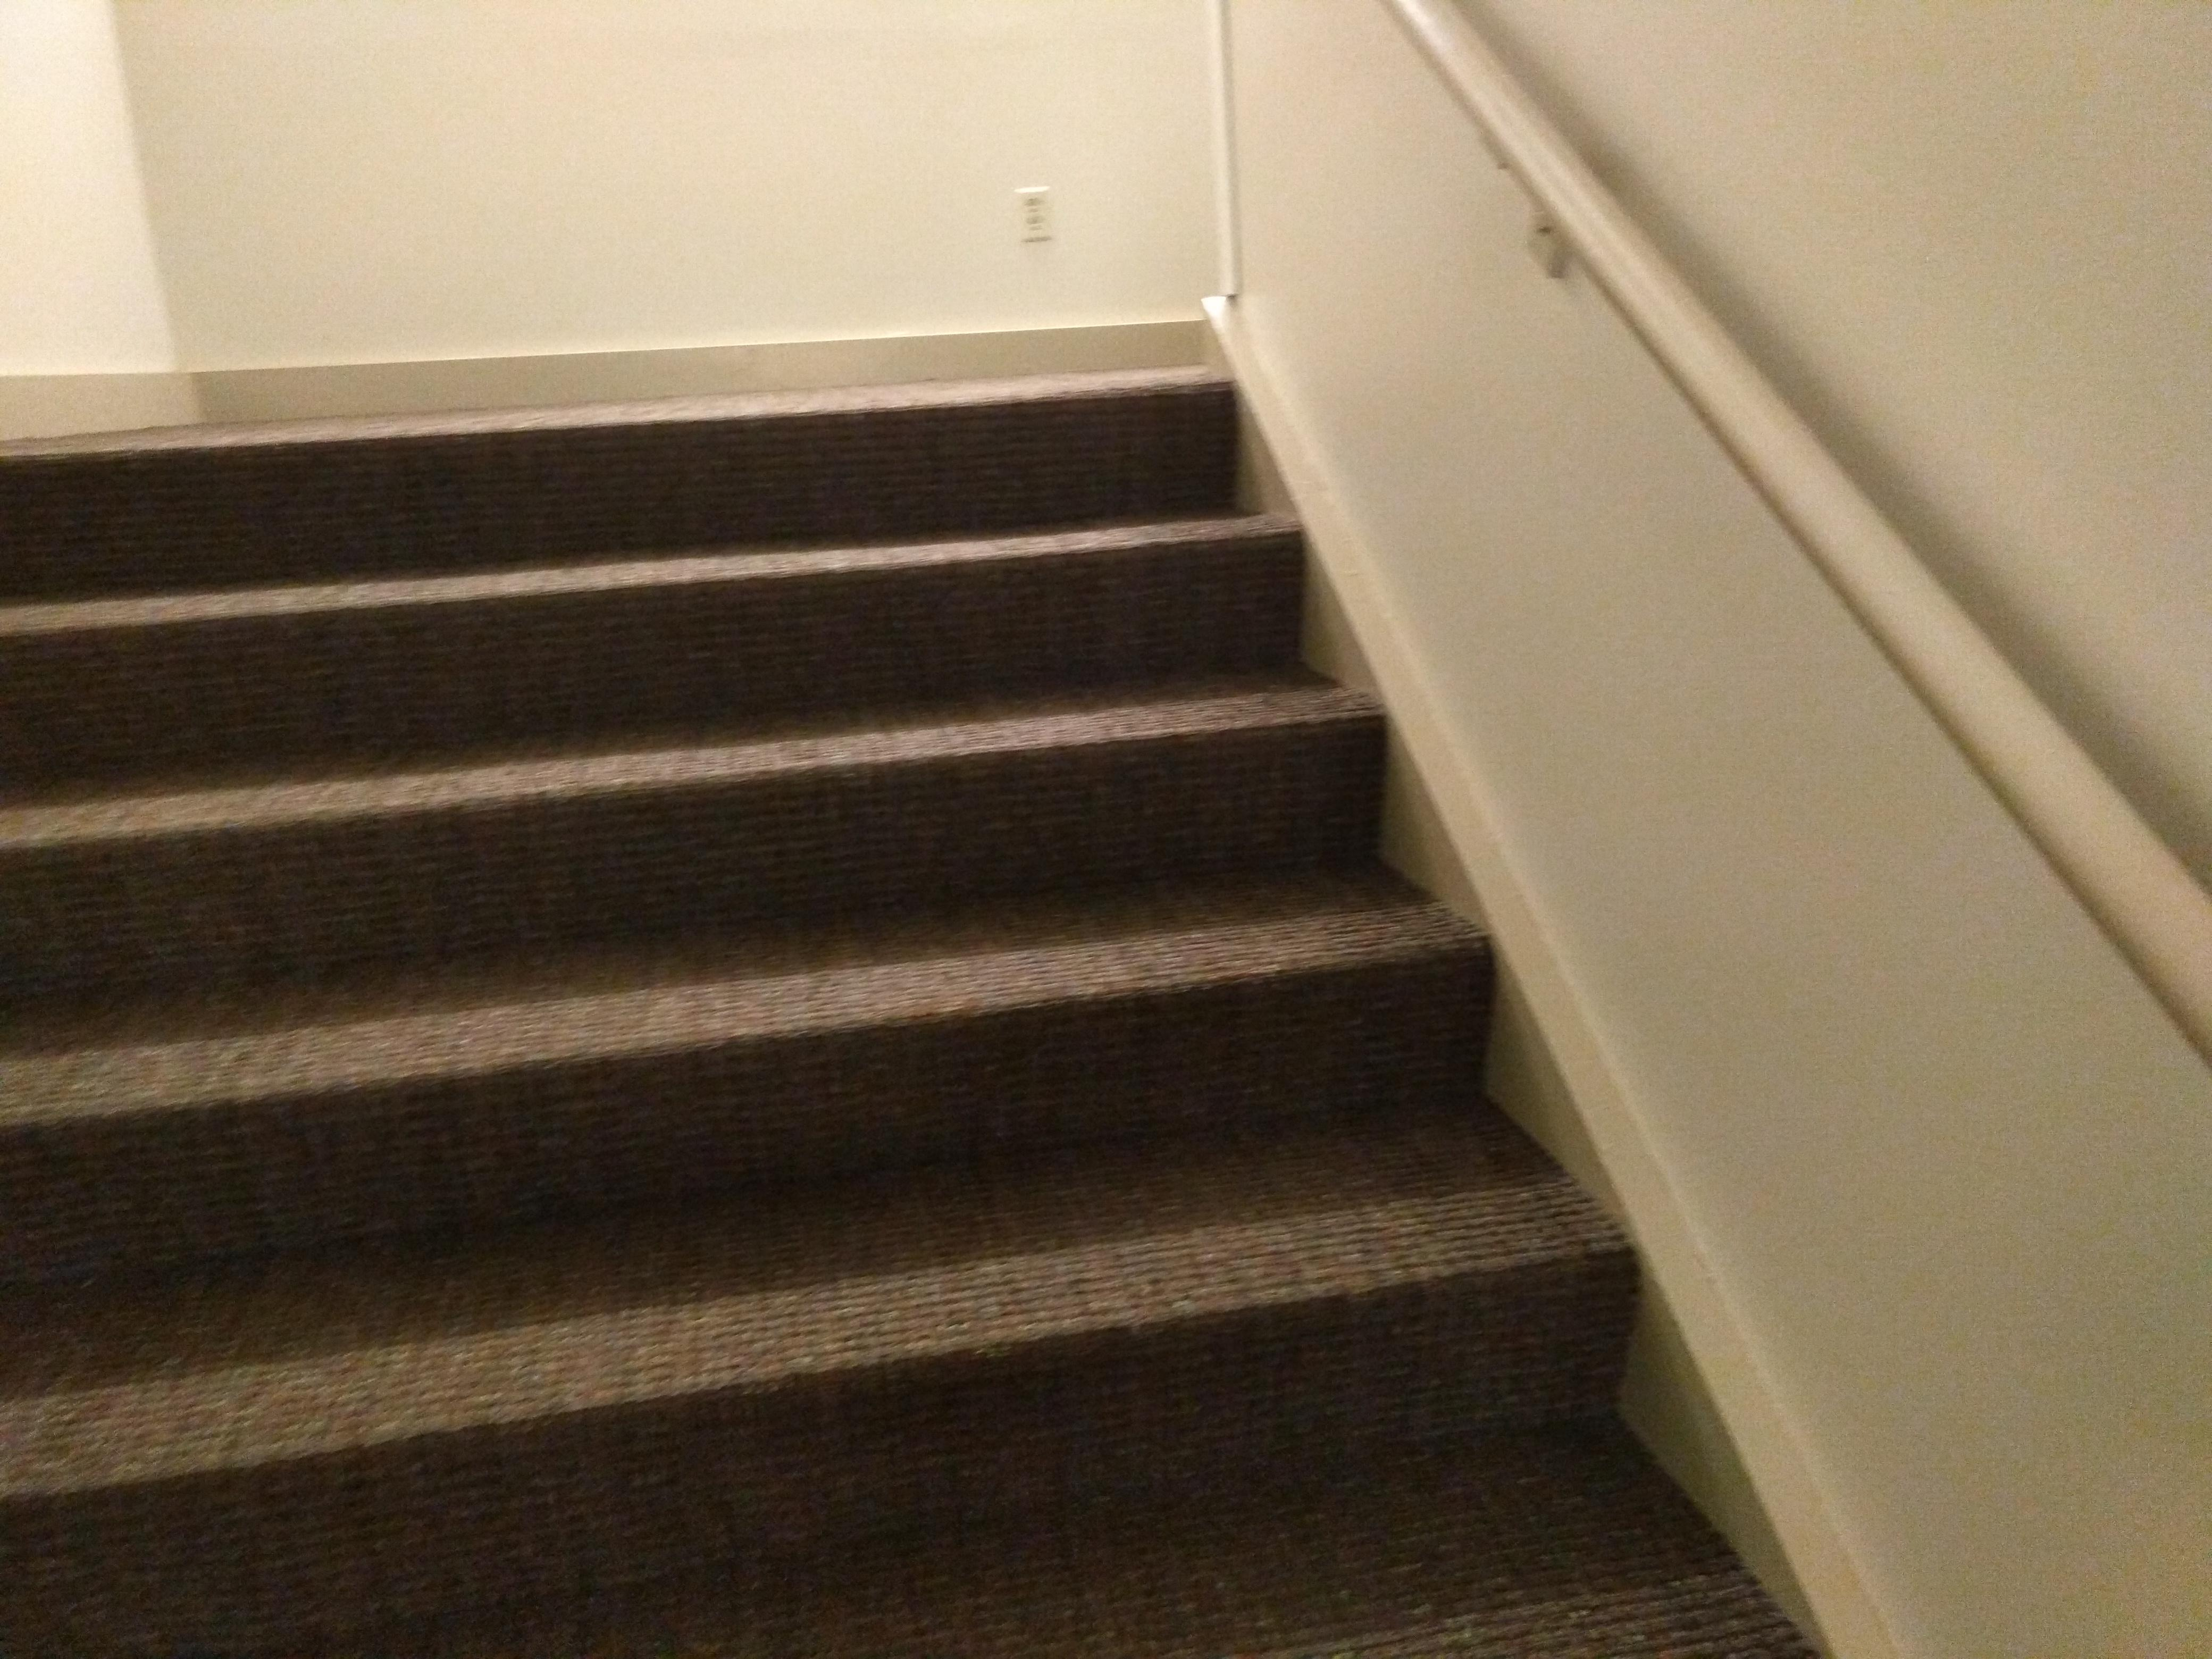stairs_up: (0, 368, 1651, 1582)
